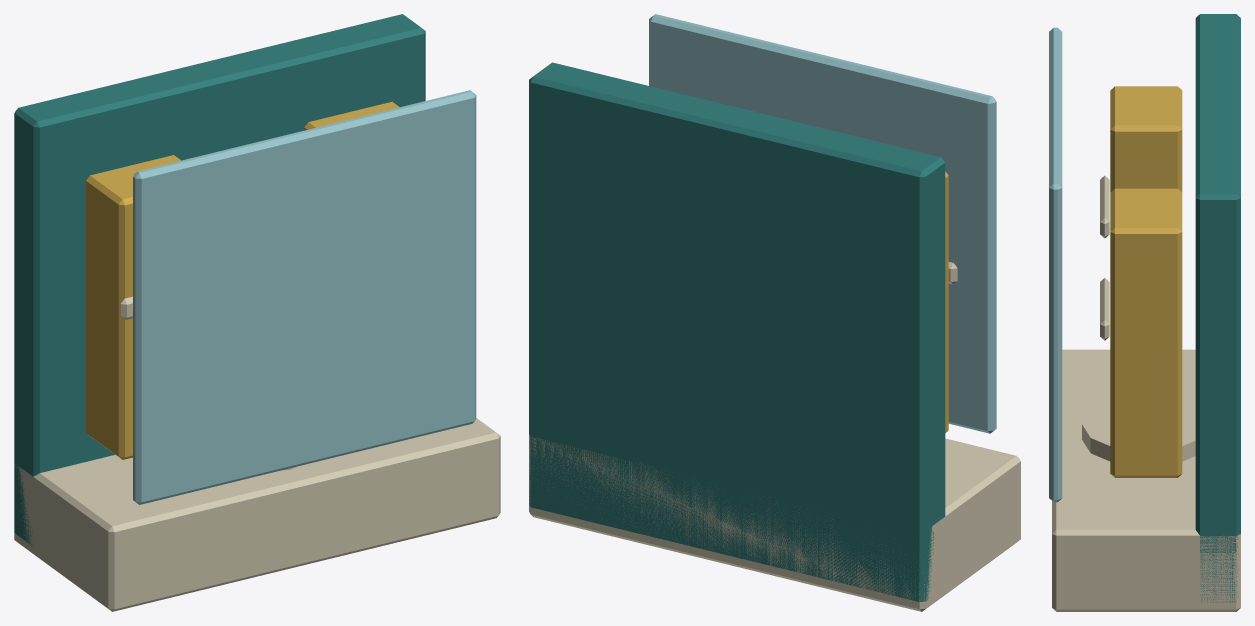
The model's file is vests.glb.
The picture shows the model from 3 angles, left to right: view 1: azimuth 30°, elevation 25°; view 2: azimuth 150°, elevation 25°; view 3: azimuth 270°, elevation 25°; orthographic projection. The views are drawn at different scales.
Visible parts, largest first — view 1: Target0, Base, Target1, Target2; view 2: Base, Target0, Target1; view 3: Base, Target2, Target1, Target0, Remnant0.
Boxes of the visible parts, x1,y1,x2,y2 form: Target0: [133, 90, 476, 504]; Base: [14, 14, 500, 611]; Target1: [86, 155, 180, 459]; Target2: [304, 101, 399, 130]; Base: [529, 62, 1020, 611]; Target0: [649, 14, 996, 433]; Target1: [945, 171, 957, 432]; Base: [1052, 14, 1240, 611]; Target2: [1100, 188, 1182, 477]; Target1: [1100, 86, 1182, 238]; Target0: [1049, 27, 1062, 502]; Remnant0: [1082, 402, 1195, 461].
Size of the model in its own units: 1.15 by 1.22 by 0.5075.
